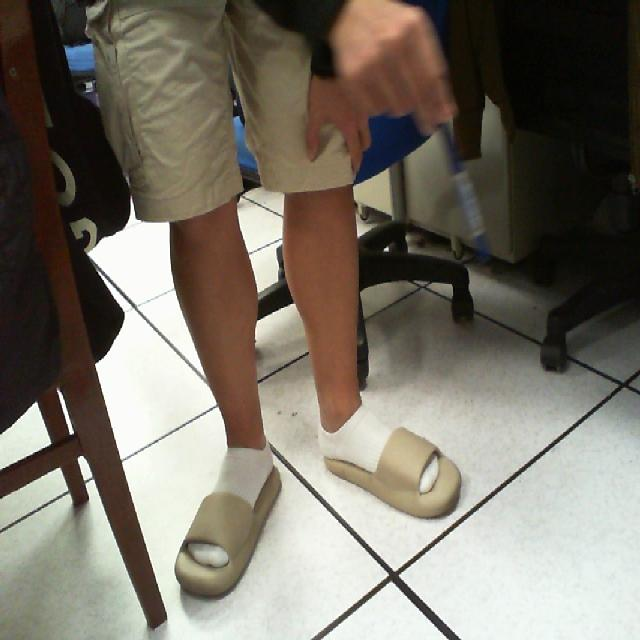Pen: (407, 76, 515, 296)
